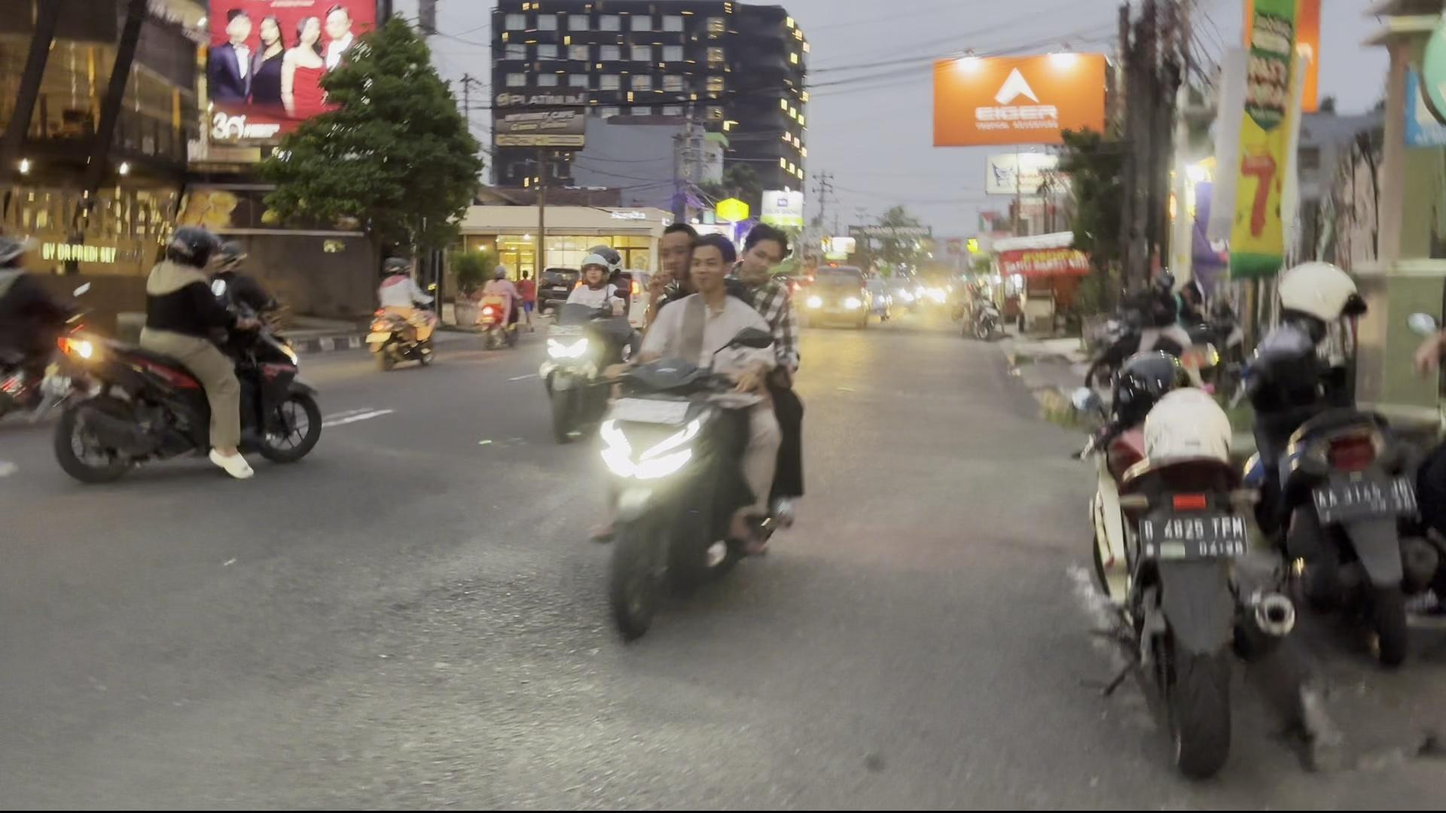nohelm: (687, 231, 738, 297)
riding: (589, 213, 821, 658)
